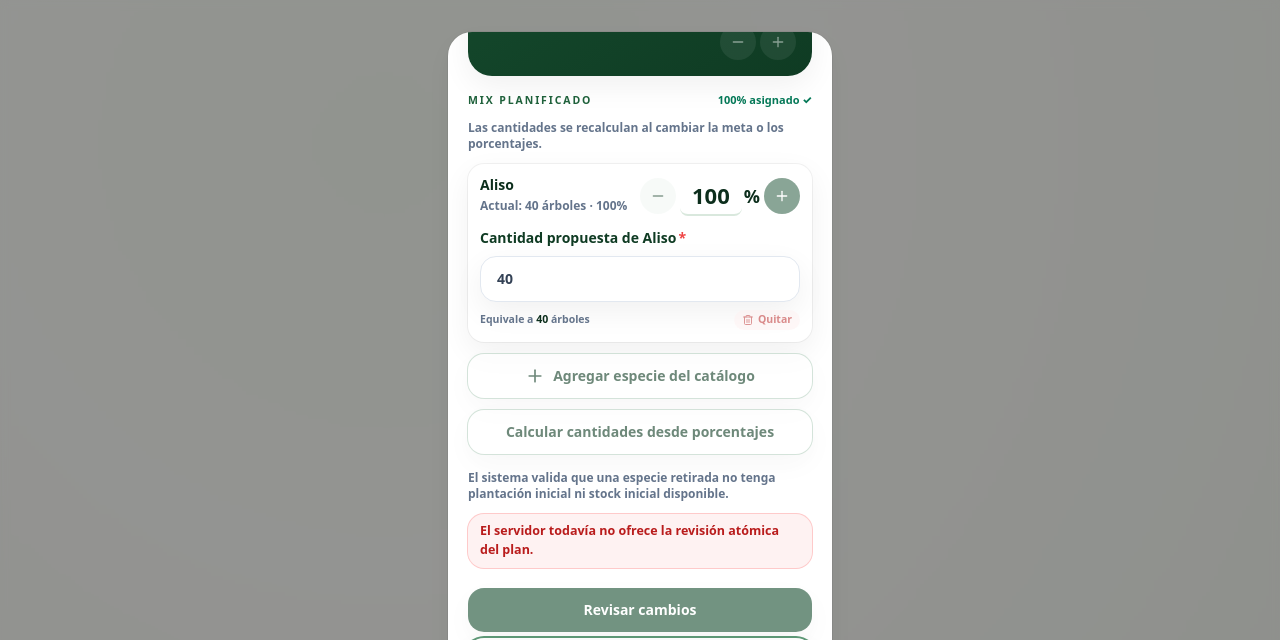
editor conectado del plan de subcampaña › bloquea el guardado cuando el backend aún no entrega plan_revision
(page scrolled)
Expected: the text "El servidor todavía no ofrece la revisión atómica del plan." is shown, [468,514,812,568]
Click the button "Revisar cambios": [640, 610] box [468,588,812,632]
(page scrolled)
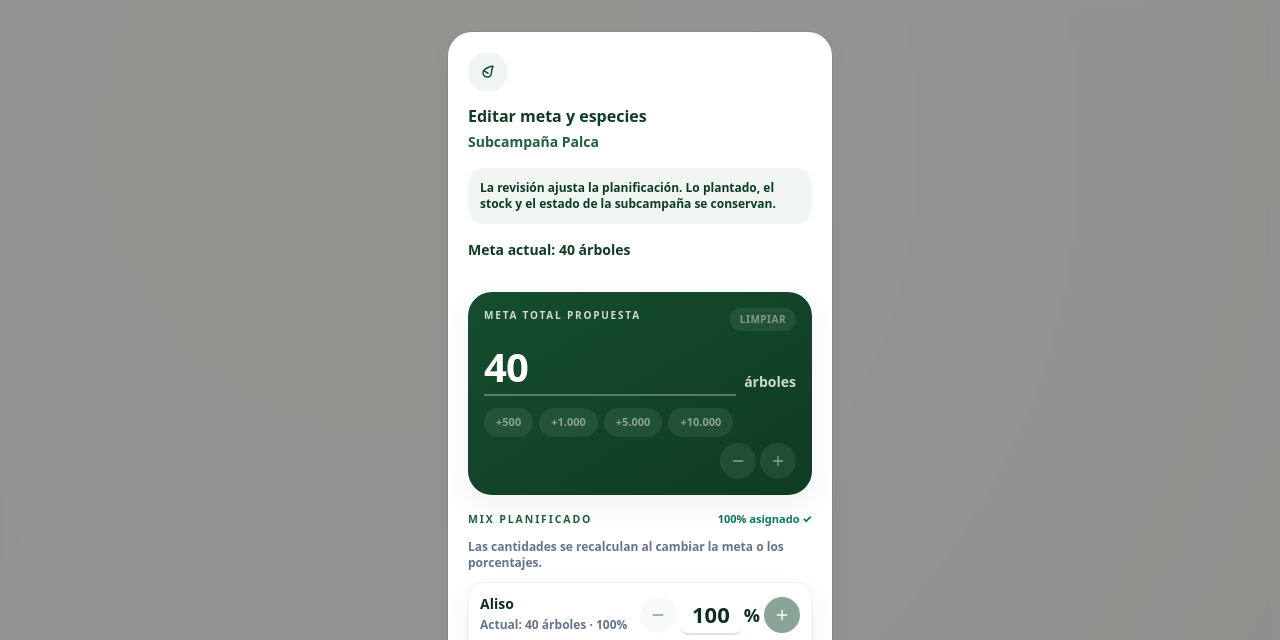
Now the field labelled "Meta total propuesta" is disabled, box [484,339,736,396]
